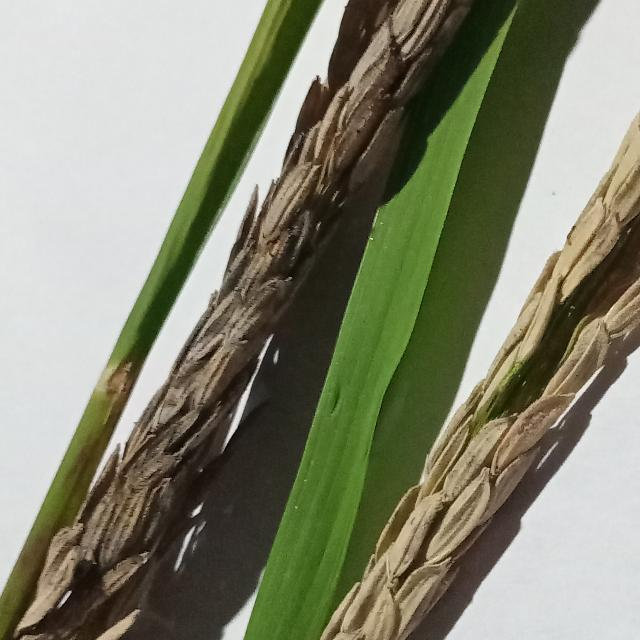Neck_Blast: (3, 0, 490, 640), (316, 108, 640, 640)
